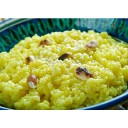venpongal: (1, 38, 123, 101)
